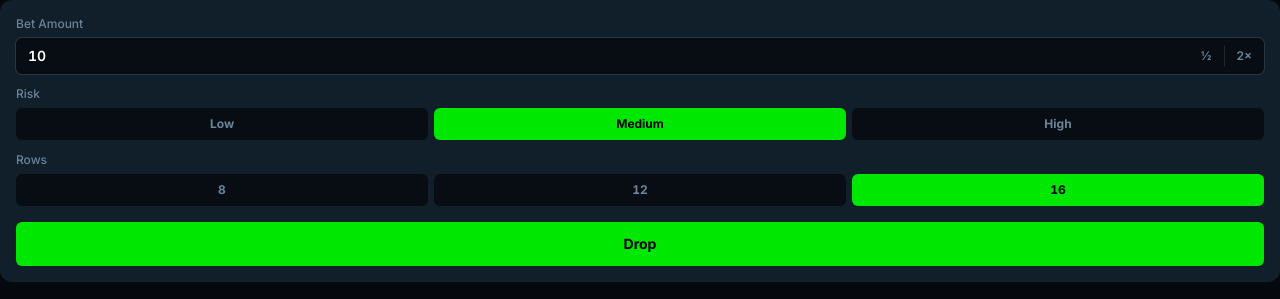
PlinkoControls › locks rows/risk while balls are airborne but keeps Drop enabled
Step 1. Click the button "Drop" → (640, 244), box [16,222,1264,266]
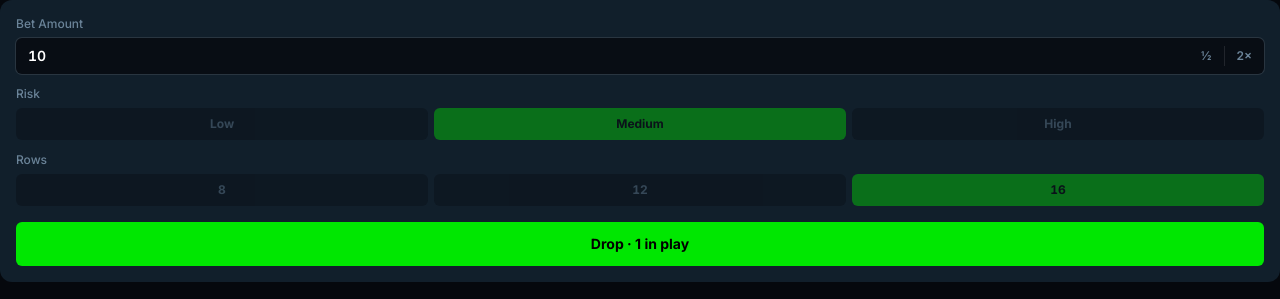
expect the button "High" is disabled: met, box [852,108,1264,140]
